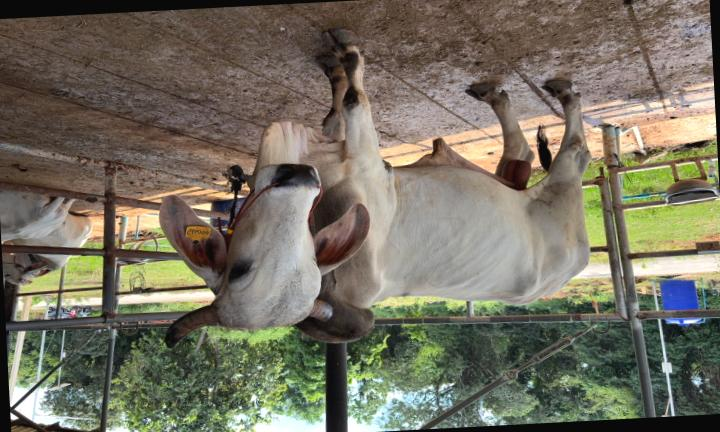Brahman: (159, 29, 590, 347)
